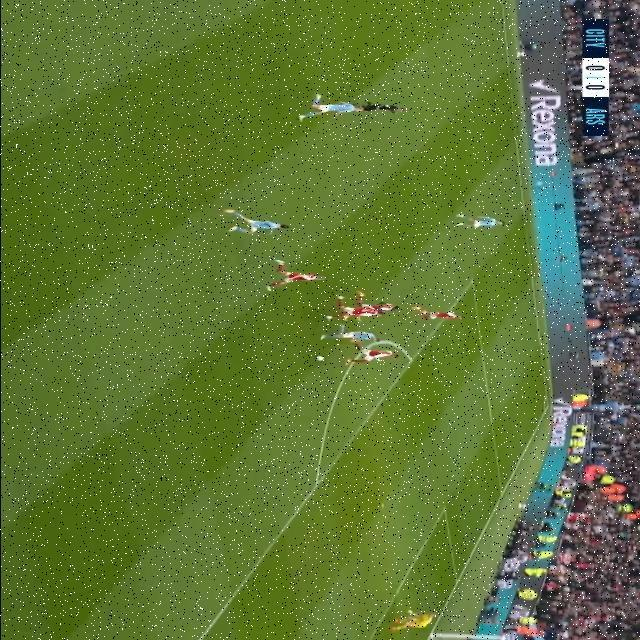ball: (307, 356, 340, 361)
goalkeeper: (382, 596, 460, 632)
player: (276, 78, 371, 134), (203, 192, 297, 240), (237, 255, 339, 293), (329, 288, 417, 328), (435, 208, 519, 230), (411, 297, 475, 325), (348, 346, 410, 370), (314, 332, 400, 349)
referee: (354, 91, 426, 124)
